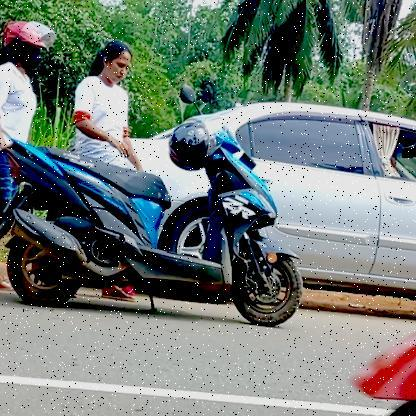motorcycle: (0, 80, 327, 338)
